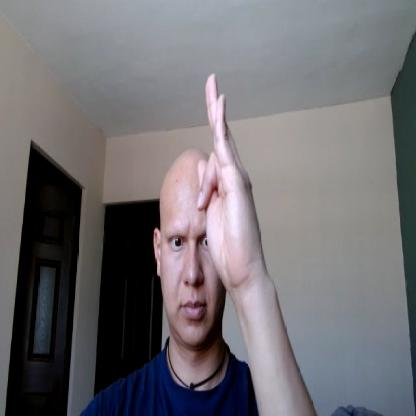F: (195, 72, 262, 288)
